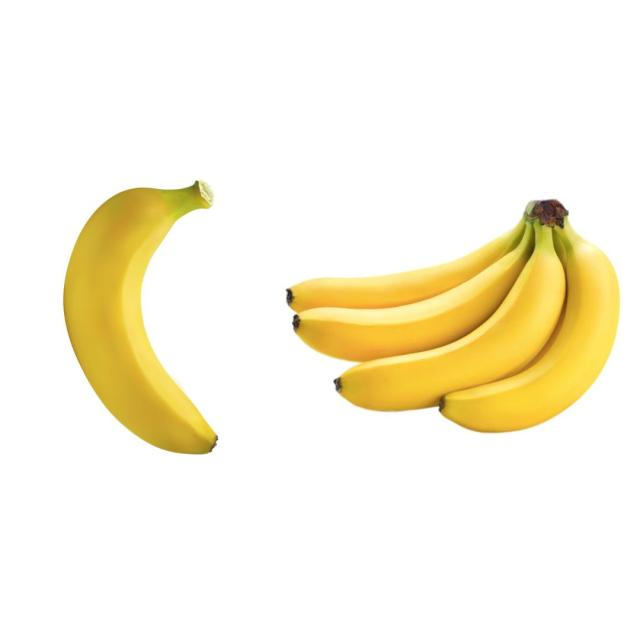Pisang: (286, 198, 621, 434), (63, 178, 219, 454)
